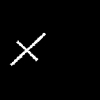single_crochet: (11, 33, 44, 64)
